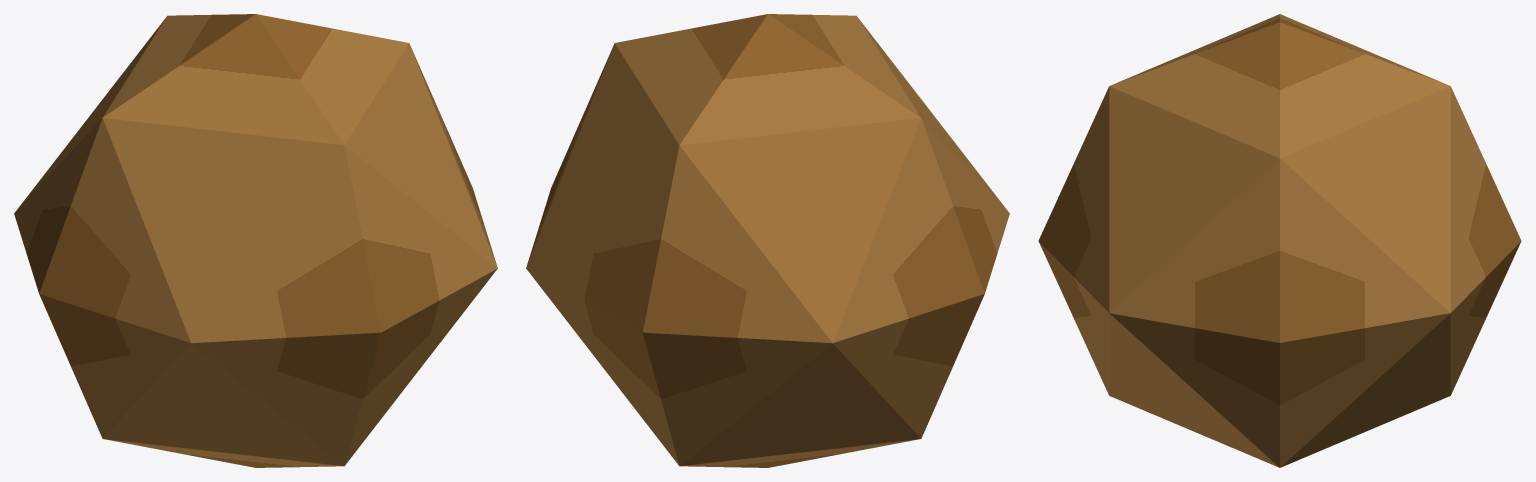
The model's file is fluid_pipe_core.obj.
3 views of the same model, side by side, from view 1: azimuth 30°, elevation 25°; view 2: azimuth 150°, elevation 25°; view 3: azimuth 270°, elevation 25° (orthographic). The views are drawn at different scales.
Parts seen in each view (by area): view 1: core; view 2: core; view 3: core.
Boxes of the visible parts, left/top/right/bottom form: core: left=14, top=14, right=497, bottom=467; core: left=526, top=14, right=1009, bottom=467; core: left=1038, top=14, right=1521, bottom=467.
Bounding box in the file's own units: 0.375 × 0.375 × 0.375.
